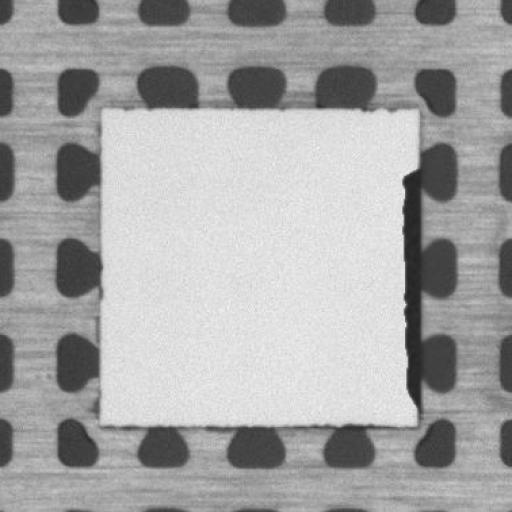DIE_BROKEN: (398, 168, 423, 406)
